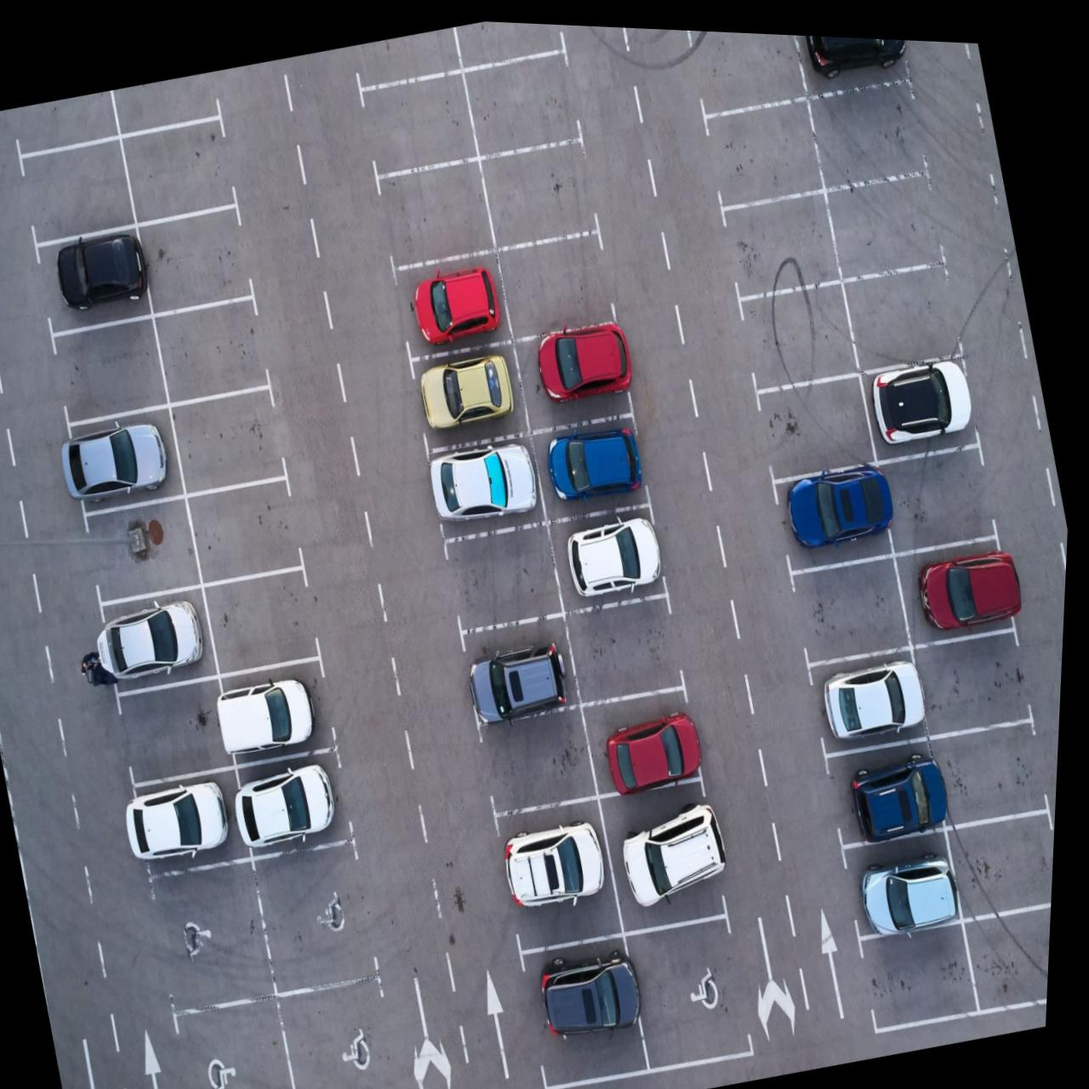cars: (512, 933, 653, 1089), (592, 775, 731, 933), (491, 793, 623, 951), (768, 448, 900, 573), (96, 582, 223, 703), (232, 742, 355, 862), (541, 503, 668, 618), (896, 537, 1021, 652), (125, 763, 251, 875), (838, 824, 961, 938), (29, 228, 154, 340), (454, 613, 579, 725), (822, 734, 947, 846), (524, 409, 651, 519), (572, 688, 703, 794), (801, 639, 924, 751), (507, 326, 630, 432), (863, 351, 983, 459), (407, 341, 531, 445), (389, 248, 512, 352), (219, 657, 336, 762), (66, 406, 182, 505), (429, 432, 544, 526), (785, 35, 911, 98)
empty: (620, 920, 763, 1080), (246, 834, 384, 994), (145, 862, 277, 1016), (179, 469, 312, 592), (731, 280, 866, 400), (715, 185, 844, 307), (112, 115, 244, 234), (854, 922, 982, 1043), (270, 975, 405, 1089), (750, 363, 883, 478), (841, 255, 969, 374), (930, 715, 1052, 839), (162, 386, 292, 502), (142, 295, 276, 407), (441, 513, 565, 634), (110, 672, 238, 787), (374, 156, 498, 273), (200, 566, 326, 681), (790, 556, 915, 671), (474, 145, 602, 255), (459, 45, 588, 154), (355, 58, 478, 172), (557, 595, 685, 704), (879, 438, 1002, 550), (46, 315, 171, 424), (910, 630, 1034, 739), (491, 230, 617, 337), (677, 30, 810, 129), (136, 214, 259, 321), (941, 810, 1055, 925), (16, 136, 135, 246), (808, 80, 926, 190), (475, 708, 595, 816), (173, 994, 304, 1089), (828, 178, 946, 283), (77, 499, 198, 599), (705, 113, 824, 210), (959, 898, 1051, 1019)
